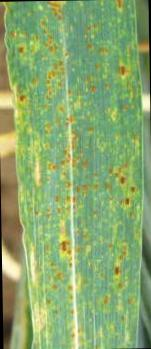Wheat: (17, 6, 129, 125), (27, 134, 133, 240), (37, 248, 129, 349)
